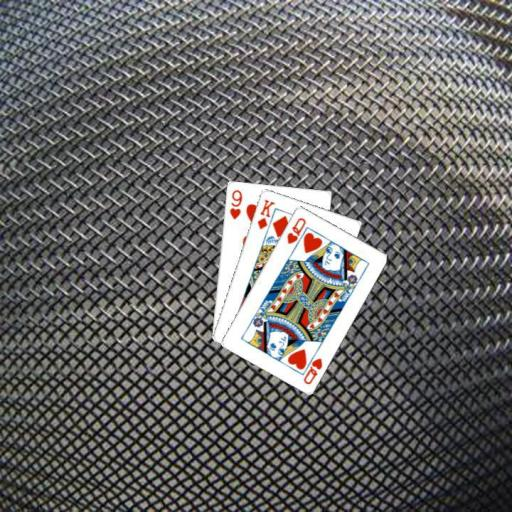9H: (226, 187, 243, 221)
KD: (254, 197, 276, 231)
QH: (298, 348, 324, 385), (284, 214, 307, 245)
